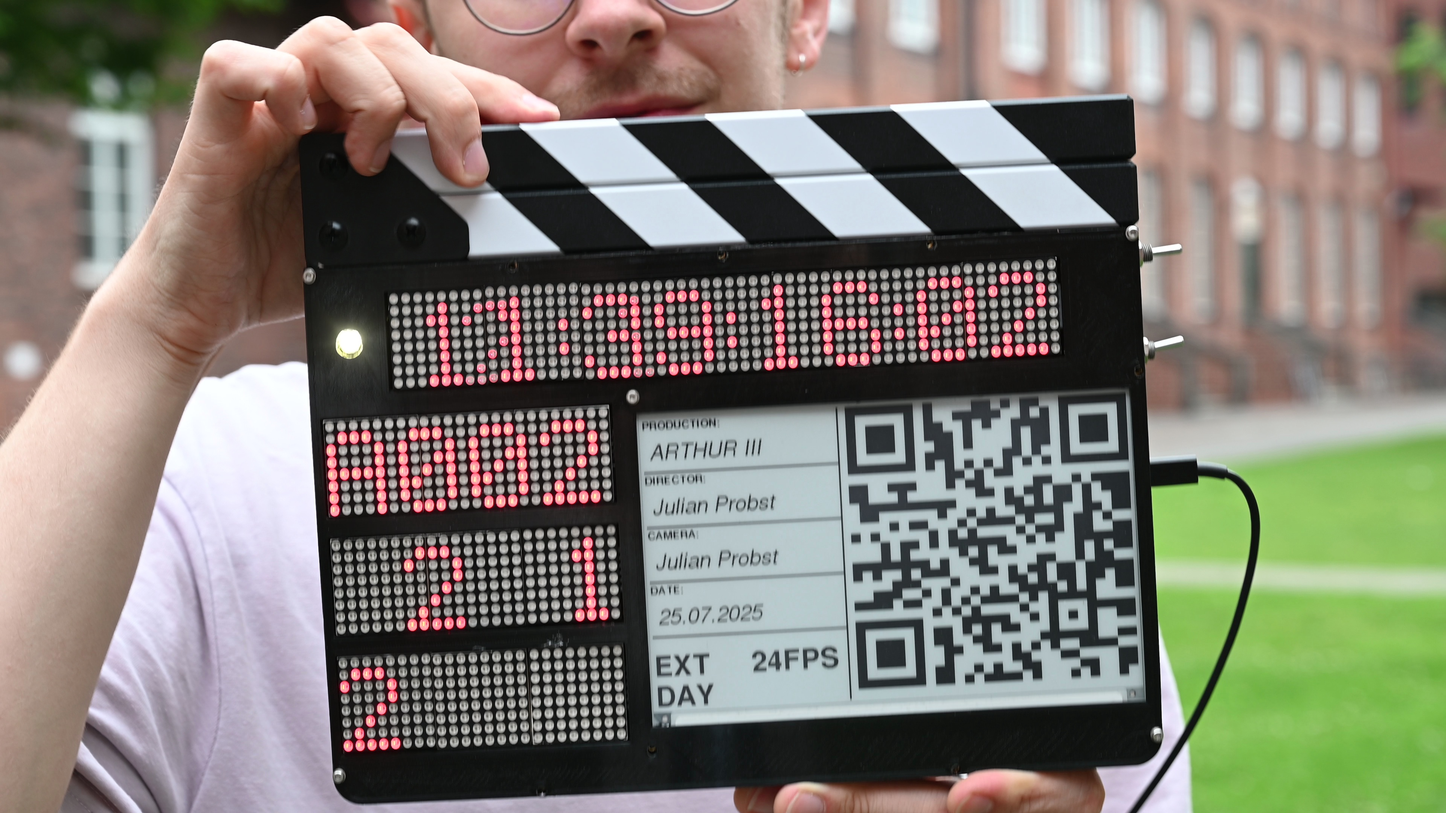ARC-SLATE: (302, 162, 1164, 806), (276, 366, 291, 375)
